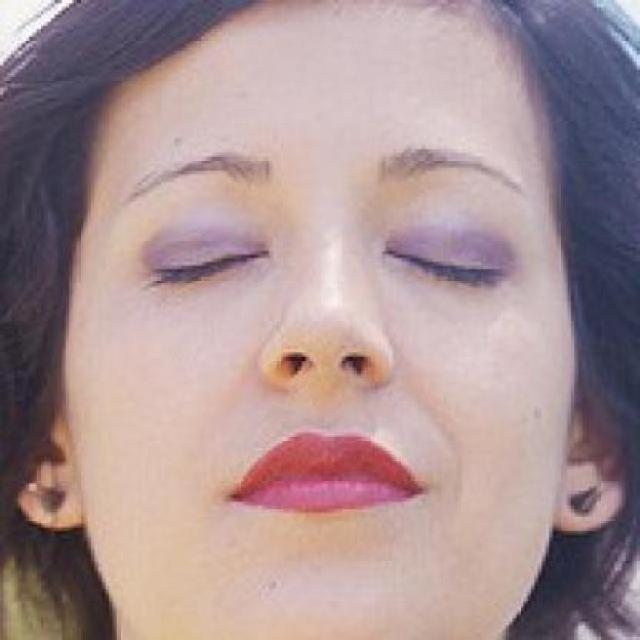drowsy: (149, 235, 276, 300), (385, 235, 509, 300)
